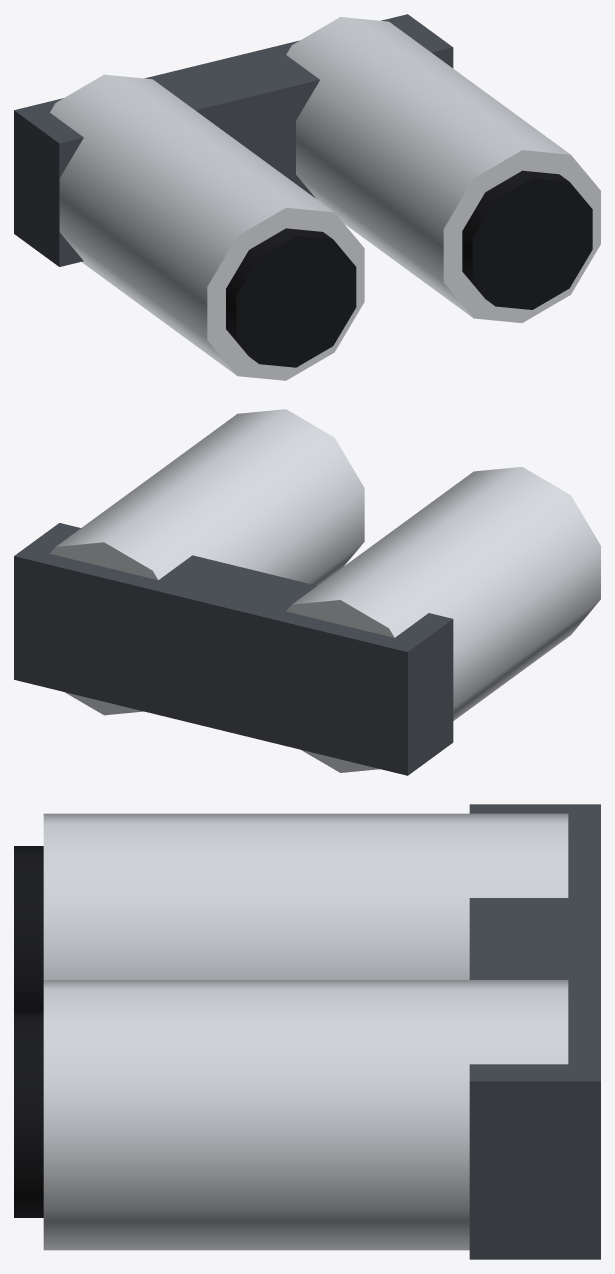
Rendered from exhaust_dual.glb.
3 views of the same model, one above another, from view 1: azimuth 30°, elevation 25°; view 2: azimuth 150°, elevation 25°; view 3: azimuth 270°, elevation 25° (orthographic). The views are drawn at different scales.
Parts seen in each view (by area): view 1: exhaust_dual__mesh; view 2: exhaust_dual__mesh; view 3: exhaust_dual__mesh.
Boxes of the visible parts, left/top/right/bottom form: exhaust_dual__mesh: left=14, top=14, right=600, bottom=380; exhaust_dual__mesh: left=14, top=409, right=600, bottom=775; exhaust_dual__mesh: left=14, top=804, right=600, bottom=1259.
Size of the model in its own units: 0.2 by 0.084 by 0.179.
1 material, 1 textured.
